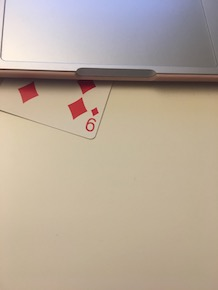NineOfDiamonds: (1, 76, 116, 139)
